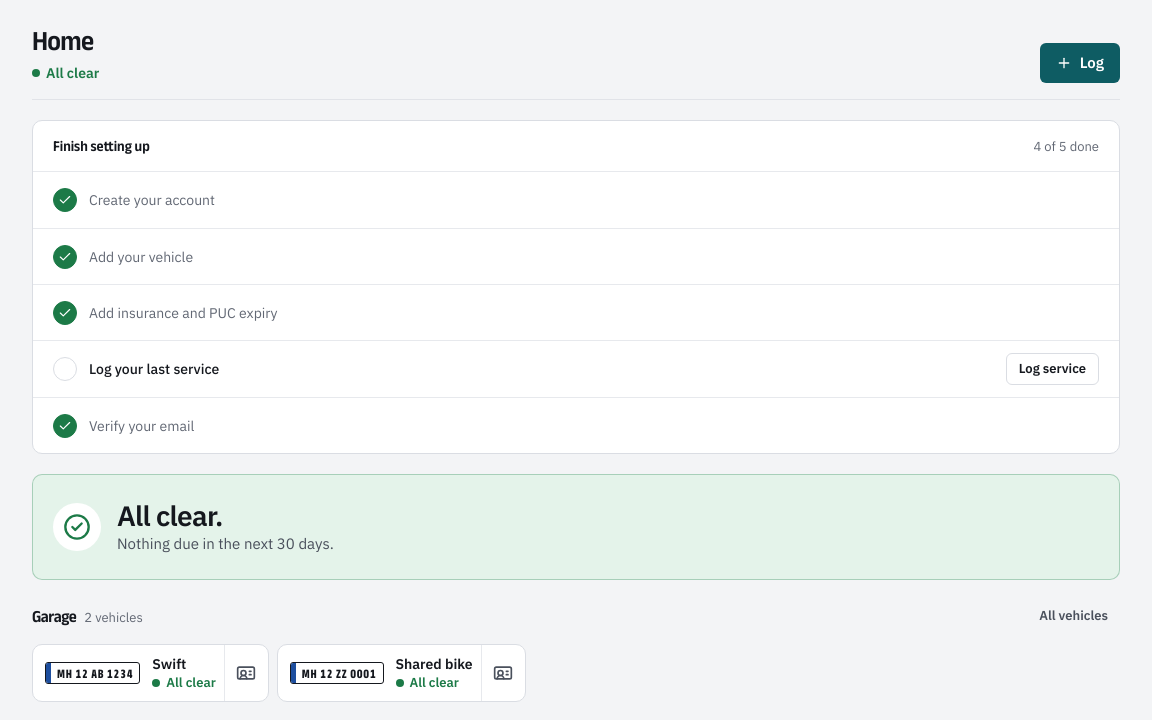
Test: DashboardPage logging › logs only against the vehicles the user can change
Click the button with test id "home-log-button". click: (1080, 63)
box: top-left (1040, 43), bottom-right (1120, 83)
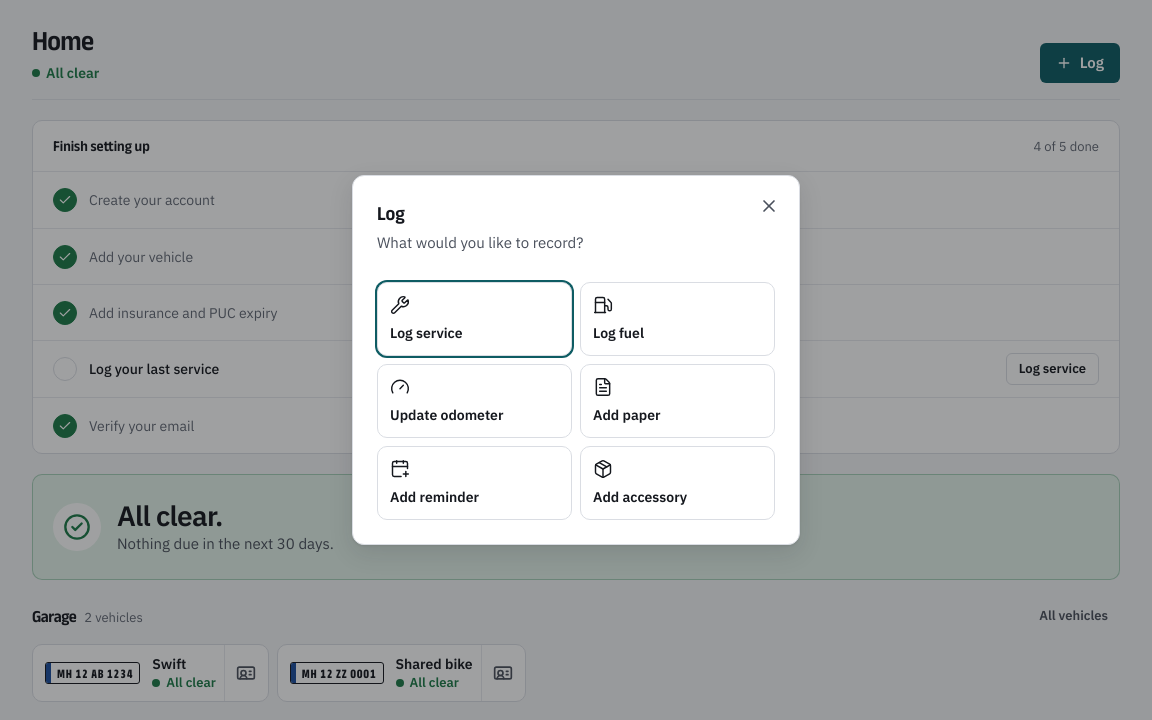
Click the button "Log fuel". click: (678, 319)
box: top-left (580, 282), bottom-right (775, 356)
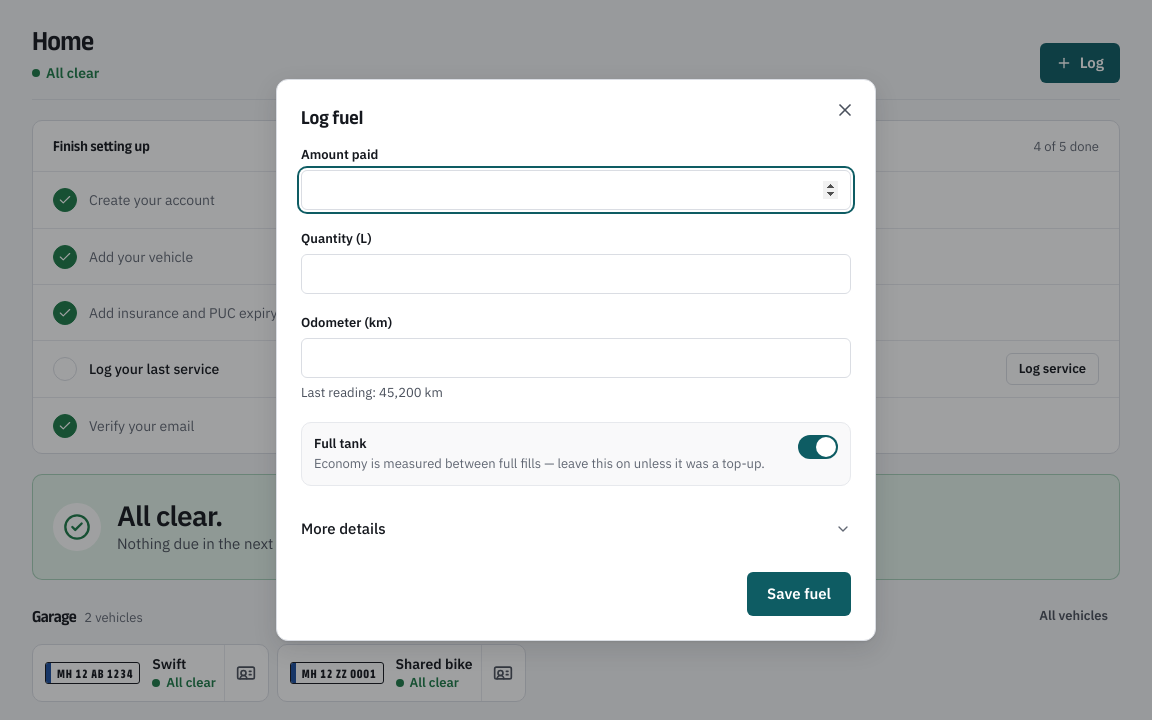
Expected: the dialog "Log fuel" is shown, top-left (276, 79), bottom-right (876, 641)
